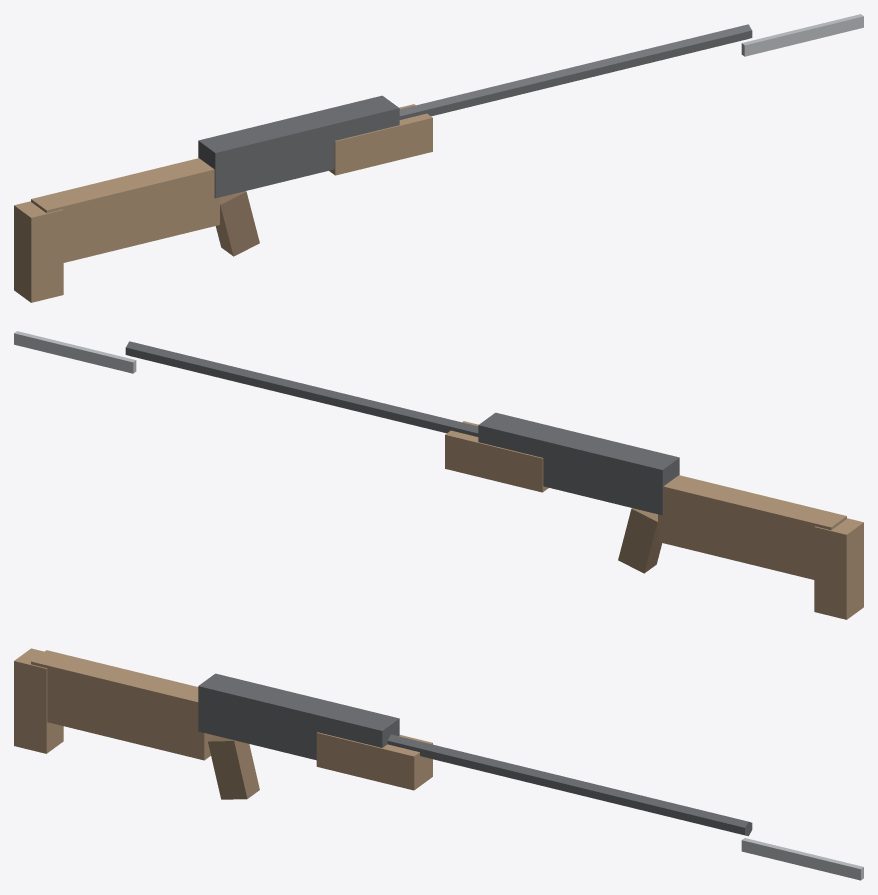
File: held_weapon_mosin.glb
3 renders of one model, top to bottom at view 1: azimuth 30°, elevation 25°; view 2: azimuth 150°, elevation 25°; view 3: azimuth 330°, elevation 25°, orthographic.
Visible parts, largest first — view 1: held_weapon_mosin; view 2: held_weapon_mosin; view 3: held_weapon_mosin.
Boxes of the visible parts, box(x1,y1,x2,y2) form: held_weapon_mosin: box(14, 14, 863, 302); held_weapon_mosin: box(14, 331, 863, 619); held_weapon_mosin: box(14, 648, 863, 880).
Size of the model in its own units: 1.55 by 0.1946 by 0.06.
